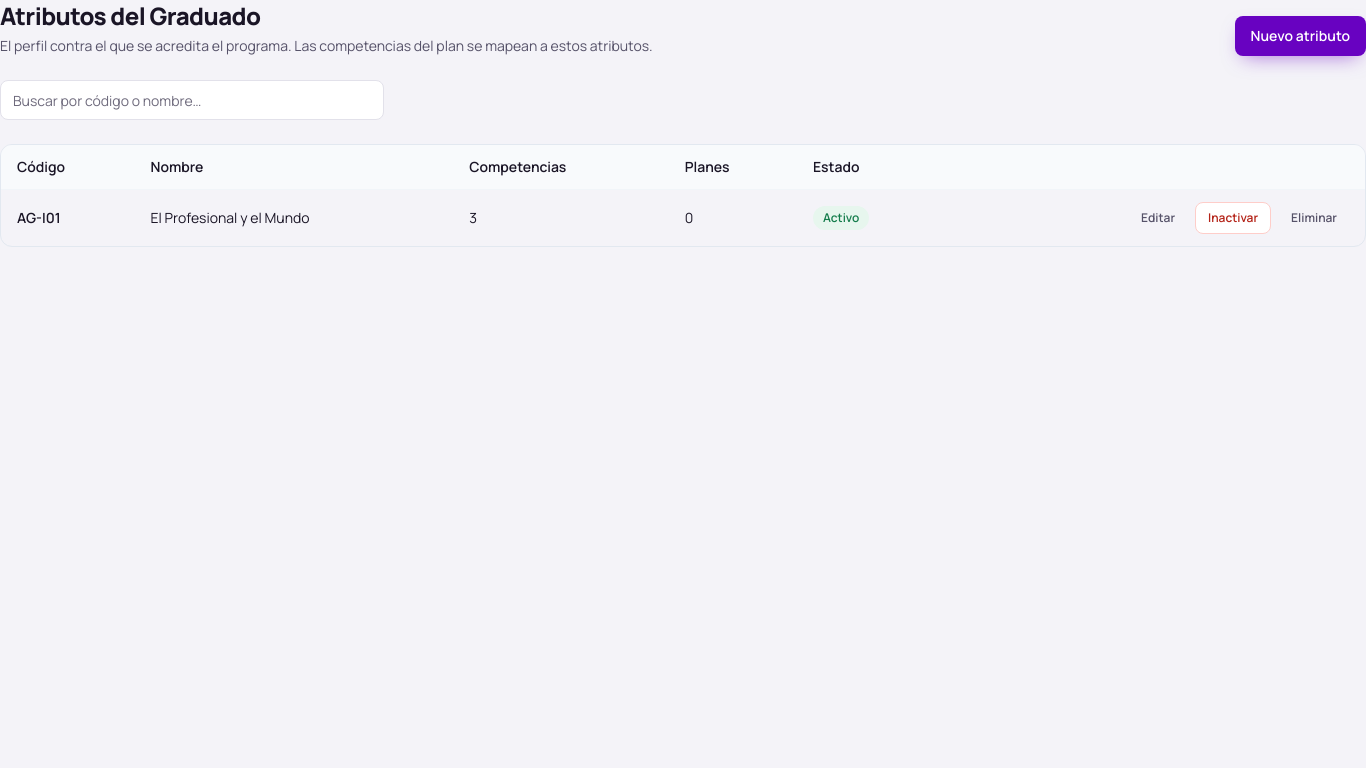
Test case: AtributosPage — eliminar (RF-CH-029) › «Eliminar» pide confirmación y, al confirmar, elimina por id y recarga la lista
This screenshot has width=1366, height=768.
Click the button "Eliminar" at coordinates (1314, 218), box [1279,202,1349,234]
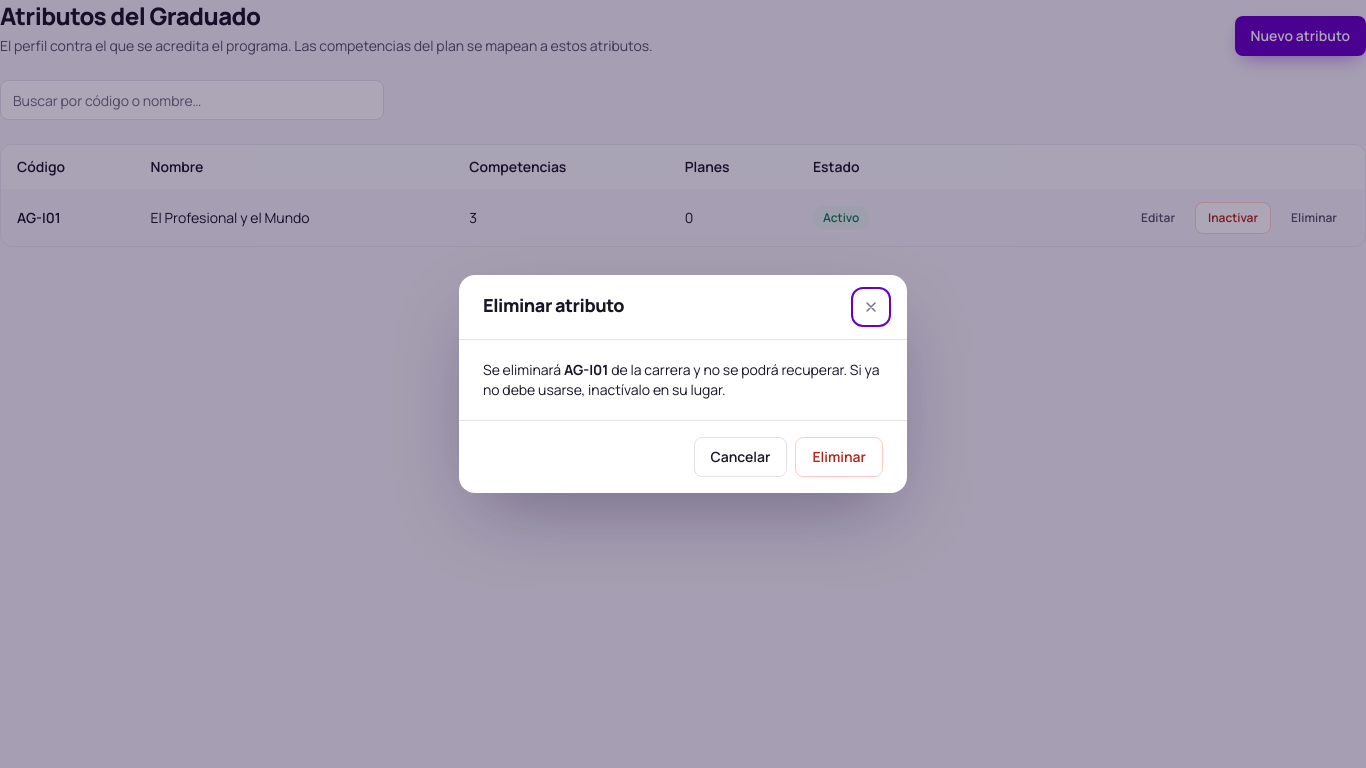
Now the text "AG-I01" is shown, box [564,360,608,379]
Click the button "Eliminar" at coordinates (839, 457), box [795,437,883,477]
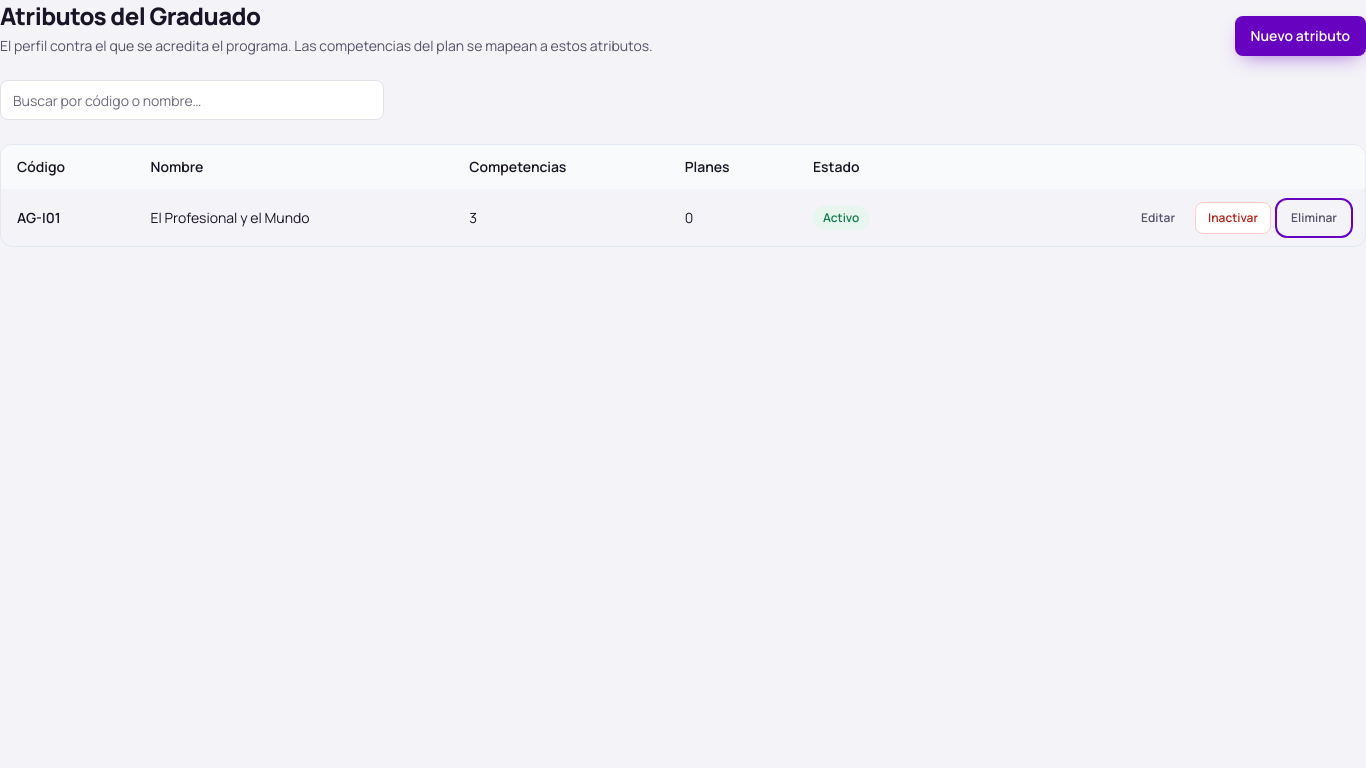
Now the heading "Eliminar atributo" is gone
